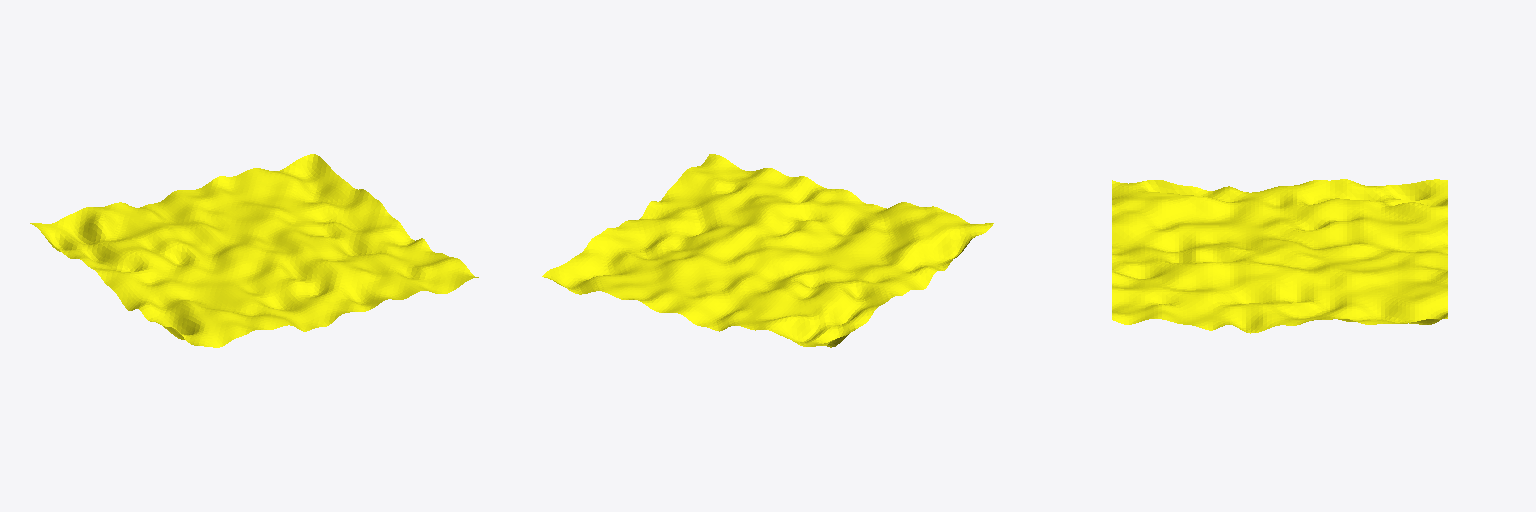
File: sand.obj
3 renders of one model, left to right at view 1: azimuth 30°, elevation 25°; view 2: azimuth 150°, elevation 25°; view 3: azimuth 270°, elevation 25°, orthographic.
Visible parts, largest first — view 1: Plane01; view 2: Plane01; view 3: Plane01.
Part boxes in pixels (bbox=[...]): Plane01: bbox=[30, 154, 478, 347]; Plane01: bbox=[542, 154, 993, 347]; Plane01: bbox=[1112, 179, 1447, 333].
Bounding box in the file's own units: 116 × 8.52 × 119.